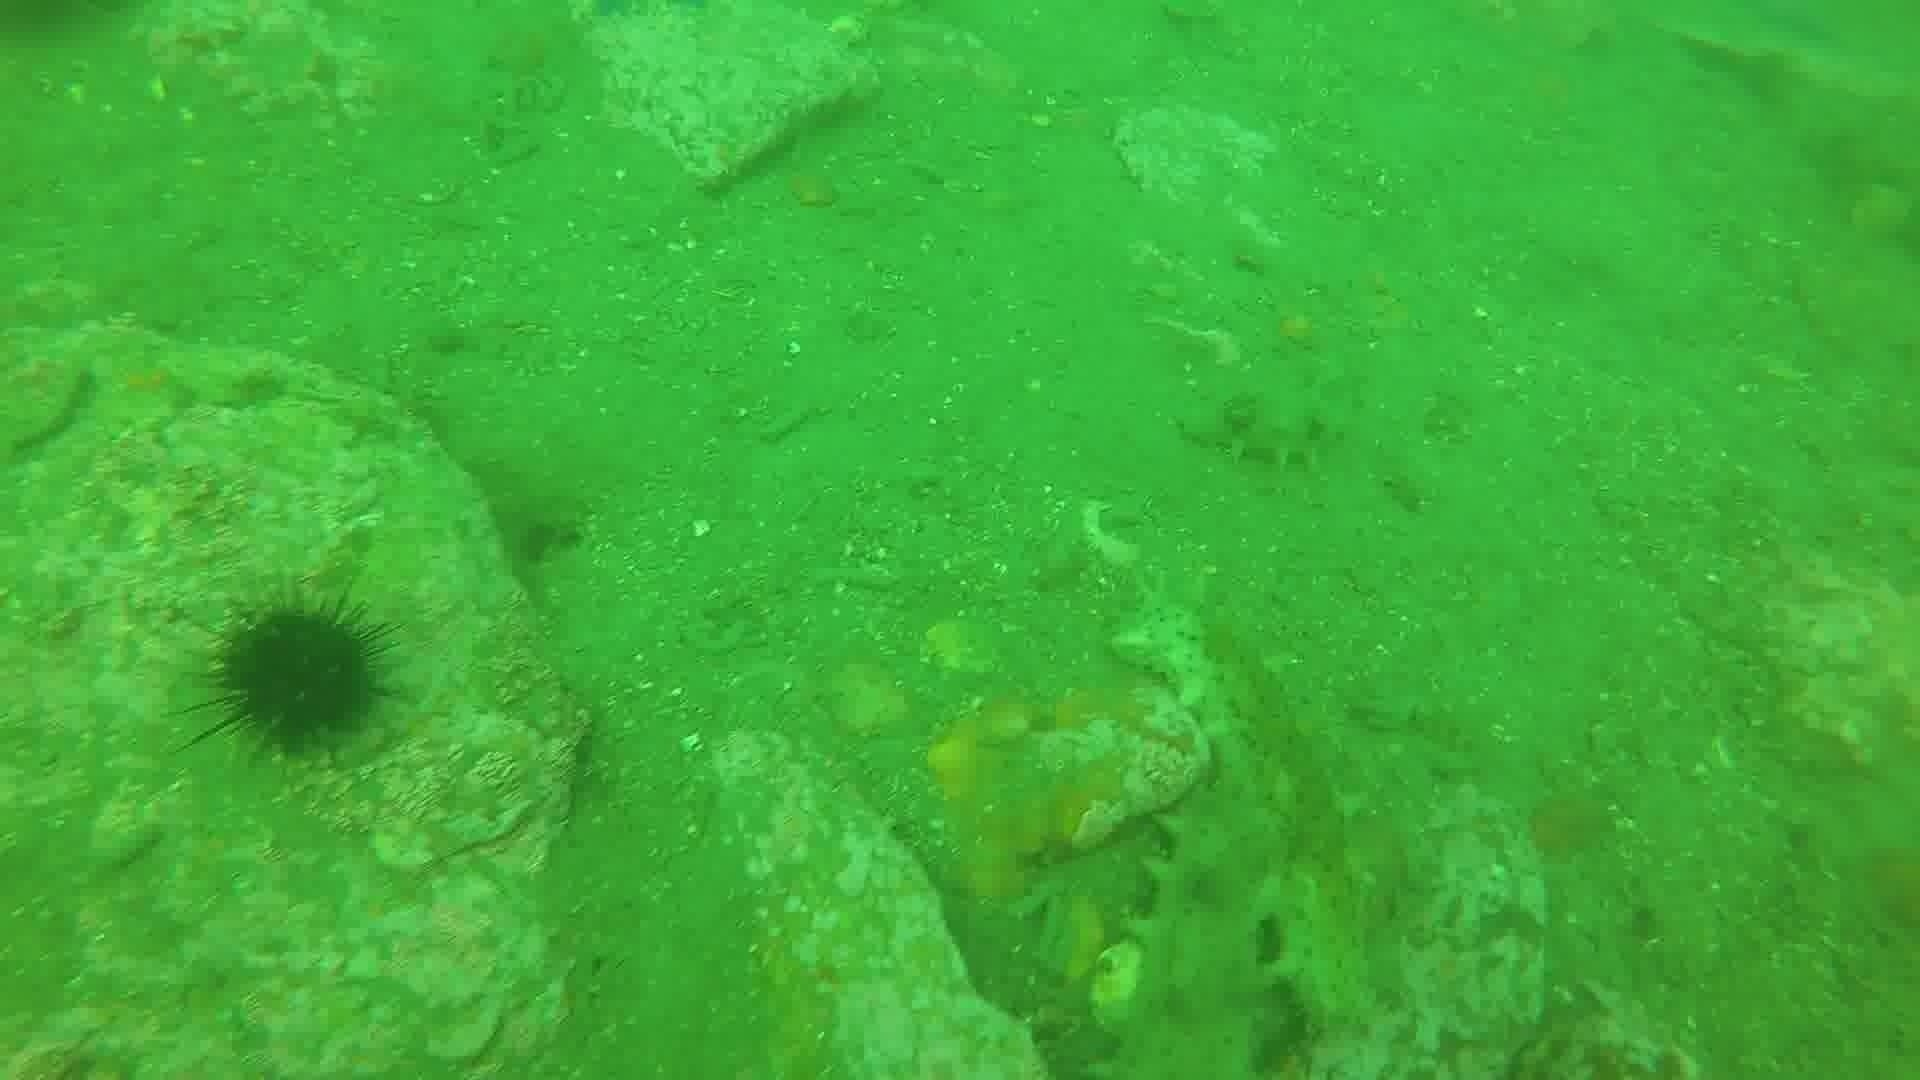echinus: (199, 589, 400, 762)
holothurian: (1135, 578, 1382, 1080), (1097, 778, 1304, 1077), (1172, 360, 1356, 477)
